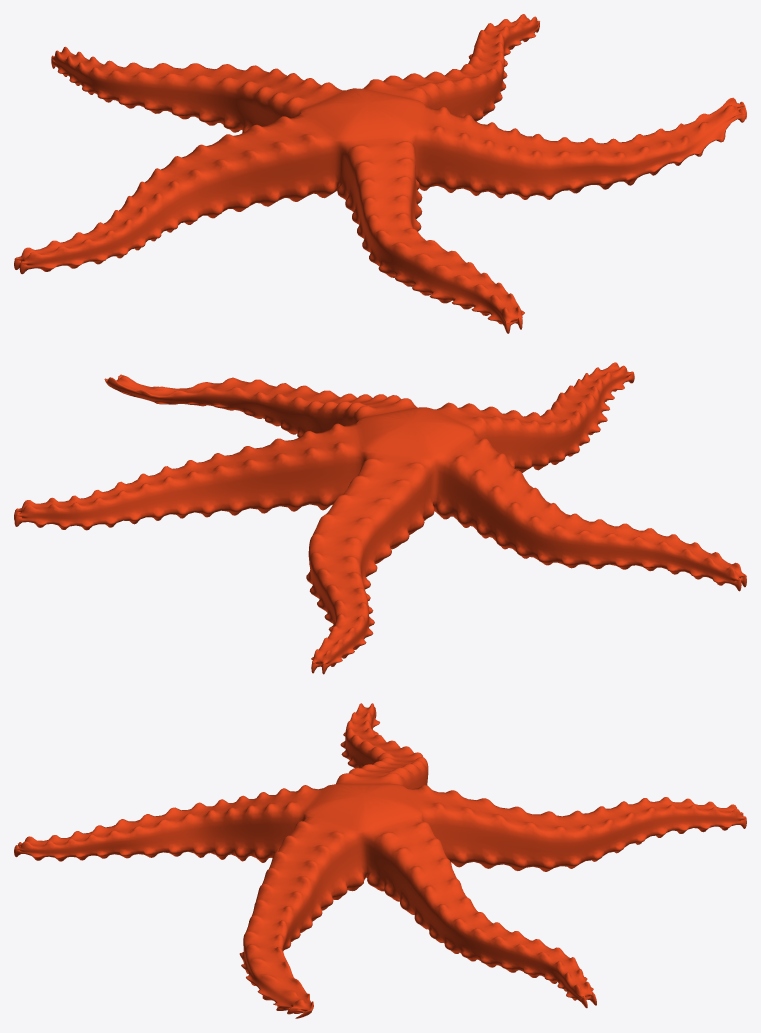
The model's file is starfish.glb.
The picture shows the model from 3 angles, top to bottom: view 1: azimuth 30°, elevation 25°; view 2: azimuth 150°, elevation 25°; view 3: azimuth 270°, elevation 25°; orthographic projection. The views are drawn at different scales.
Parts seen in each view (by area): view 1: Cylinder; view 2: Cylinder; view 3: Cylinder.
Boxes of the visible parts, x1,y1,x2,y2 form: Cylinder: (14,14,746,333); Cylinder: (14,362,746,674); Cylinder: (14,703,746,1018).
Size of the model in its own units: 11.52 by 1.43 by 11.29.
